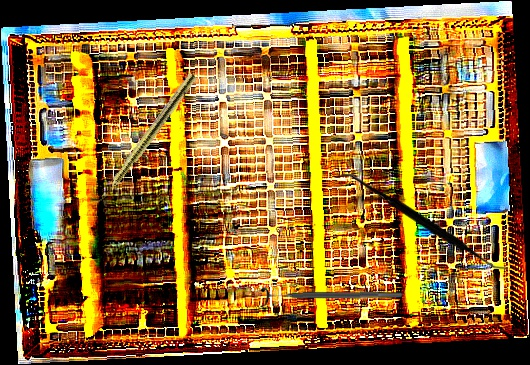Fixation Ring: (259, 283, 404, 309)
Handpiece: (93, 71, 198, 209)
Spatula Surgical: (336, 171, 508, 274)
